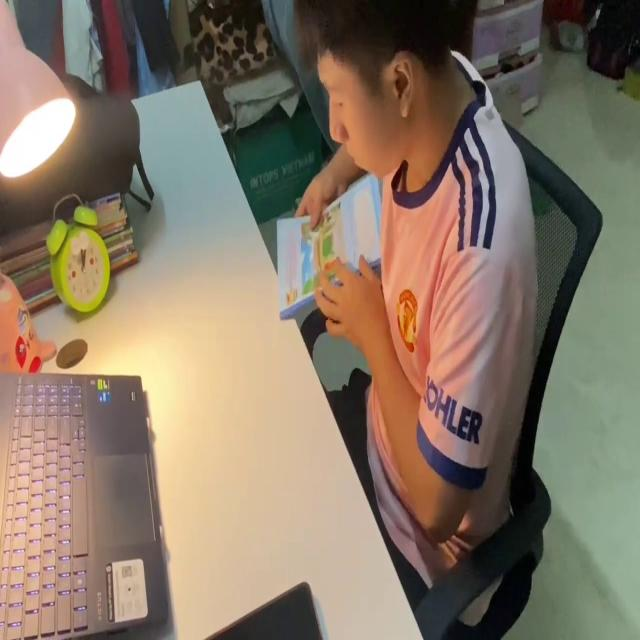book: (269, 171, 385, 309)
laptop: (1, 361, 174, 640)
phone: (203, 574, 326, 640)
student: (295, 0, 539, 584)
